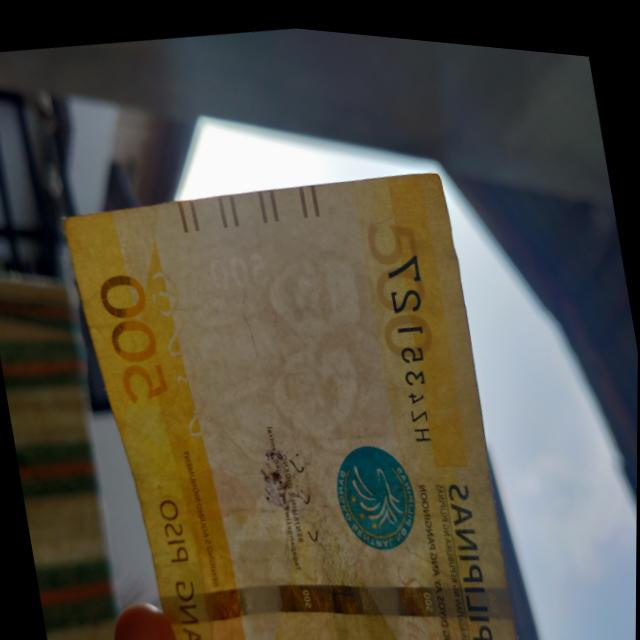security_thread: (156, 522, 518, 640)
see_through_mark: (138, 253, 228, 458)
value_watermark: (194, 232, 282, 307)
watermark: (175, 223, 409, 485)
